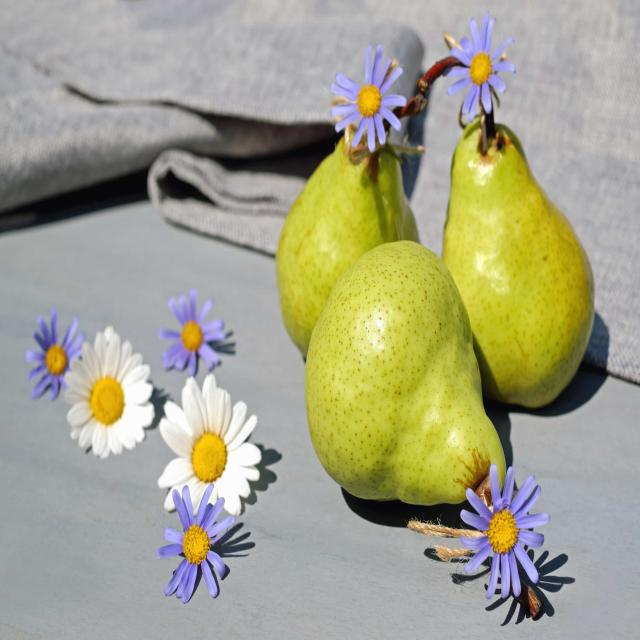pera: (306, 235, 531, 558)
